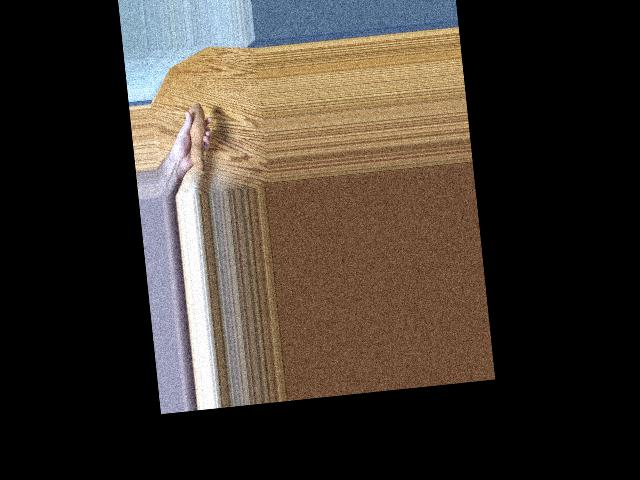sweet_potato: (176, 96, 212, 179)
